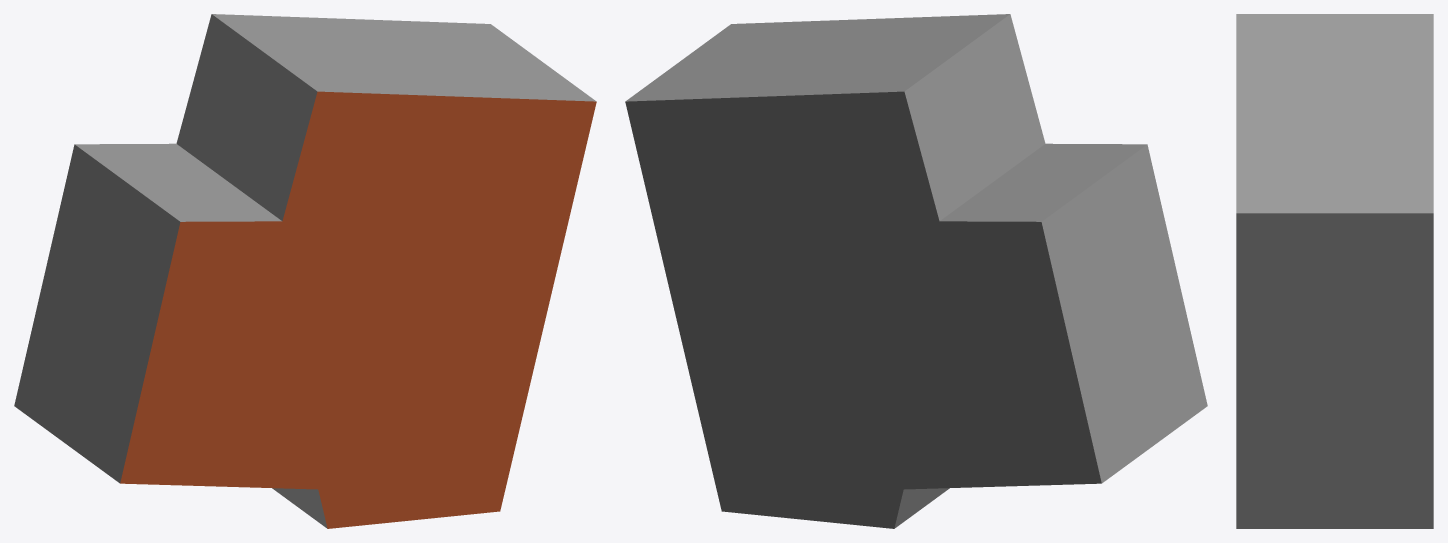
The model's file is construction_2969_assumed_A_Casa_h6m.obj.
3 renders of one model, left to right at view 1: azimuth 30°, elevation 25°; view 2: azimuth 150°, elevation 25°; view 3: azimuth 270°, elevation 25°, orthographic. The views are drawn at different scales.
Parts seen in each view (by area): view 1: construction_2969_assumed_A_Casa; view 2: construction_2969_assumed_A_Casa; view 3: construction_2969_assumed_A_Casa.
Part boxes in pixels (x1,y1,x2,y2): construction_2969_assumed_A_Casa: (14,14,596,528); construction_2969_assumed_A_Casa: (625,14,1207,528); construction_2969_assumed_A_Casa: (1236,14,1433,528).
Bounding box in the file's own units: 15.58 × 14.51 × 6.
